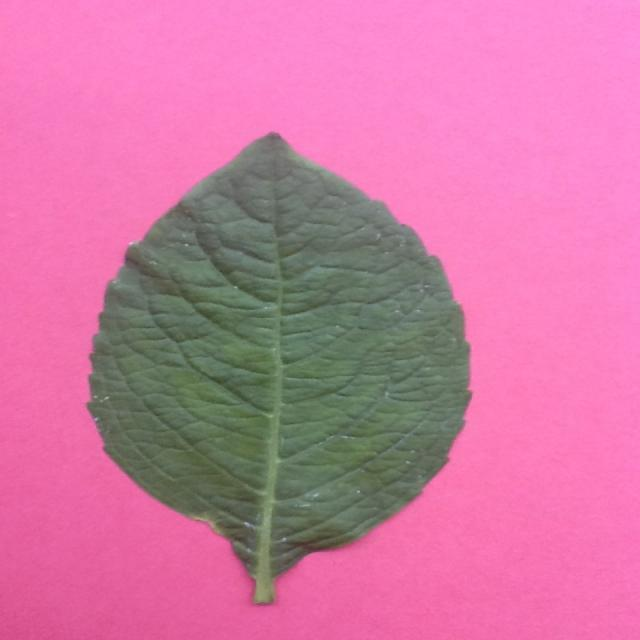foliage: (82, 125, 474, 607)
